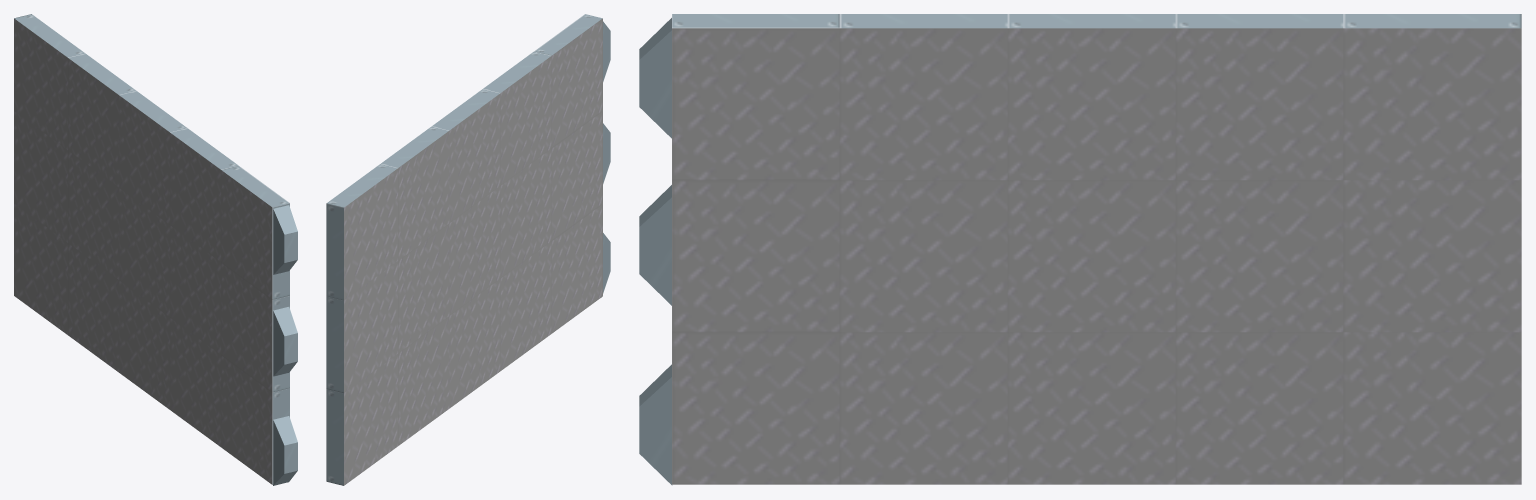
File: level_zone01_door-bridge.fbx
3 renders of one model, left to right at view 1: azimuth 30°, elevation 25°; view 2: azimuth 150°, elevation 25°; view 3: azimuth 270°, elevation 25°, orthographic. The views are drawn at different scales.
Visible parts, largest first — view 1: level_zone01_door-bridge; view 2: level_zone01_door-bridge; view 3: level_zone01_door-bridge.
Part boxes in pixels (x1,y1,x2,y2): level_zone01_door-bridge: (14, 14, 297, 485); level_zone01_door-bridge: (326, 14, 610, 485); level_zone01_door-bridge: (639, 14, 1521, 485).
Size of the model in its own units: 20 by 301 by 526.
